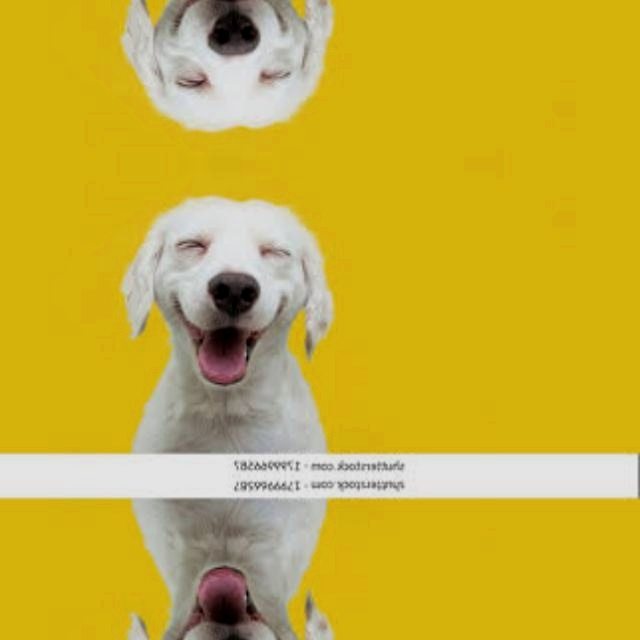dog: (110, 182, 345, 398), (111, 0, 346, 143), (111, 552, 346, 640)
